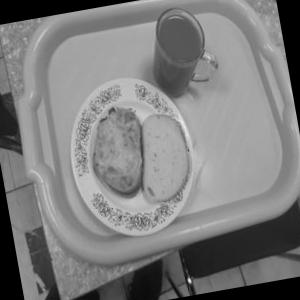bread: (129, 103, 197, 205)
cheese_sandwich: (79, 92, 156, 212)
coffee: (136, 0, 230, 109)
